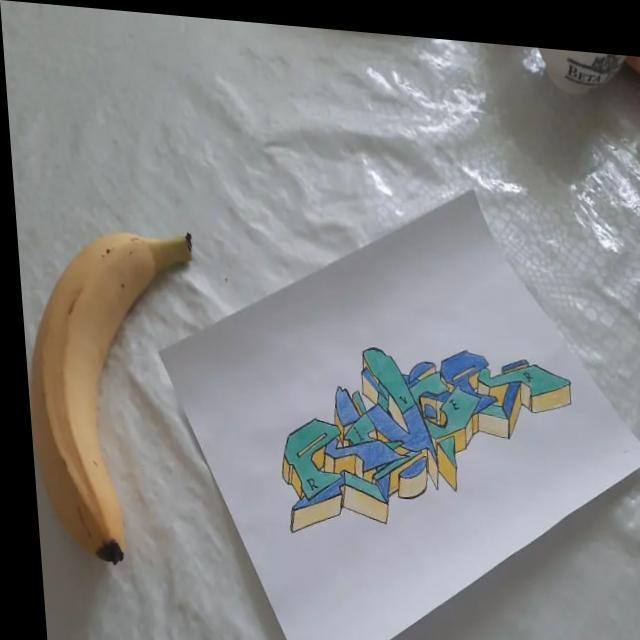-: (264, 293, 582, 557)
